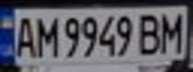4: (97, 11, 118, 57)
9: (112, 11, 139, 57), (57, 12, 81, 59), (78, 12, 100, 59)
A: (9, 12, 39, 59)
B: (136, 10, 166, 56)
M: (157, 8, 187, 54), (33, 12, 57, 59)
